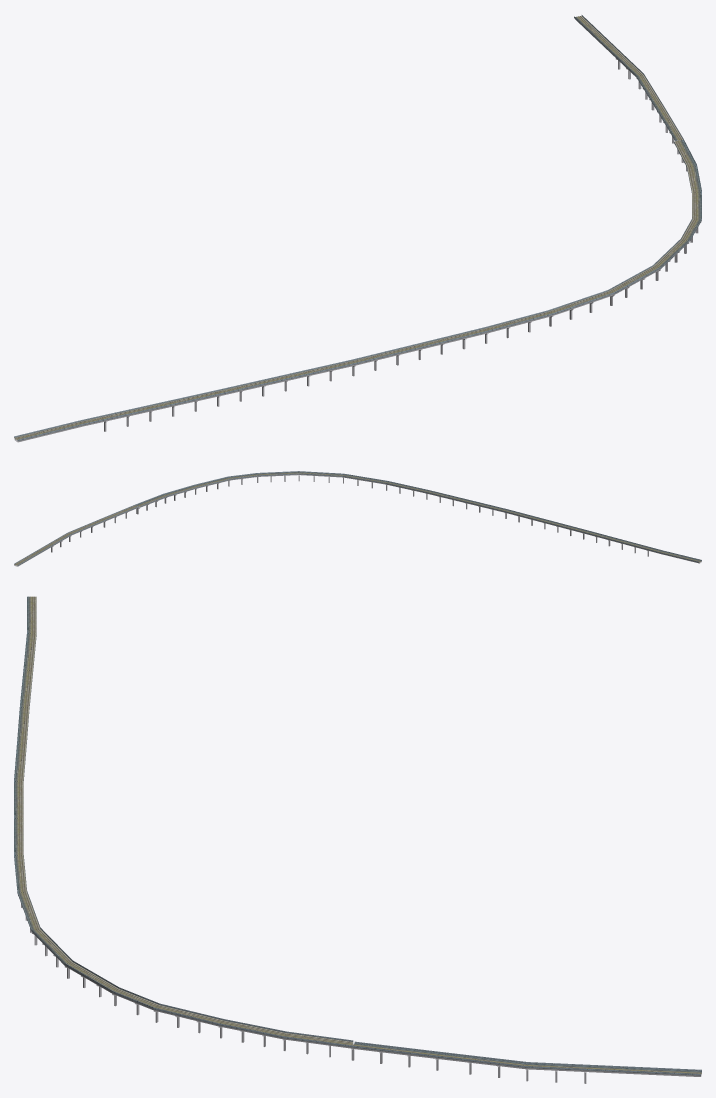
The picture shows the model from 3 angles, top to bottom: view 1: azimuth 30°, elevation 25°; view 2: azimuth 150°, elevation 25°; view 3: azimuth 270°, elevation 25°; orthographic projection. The views are drawn at different scales.
Visible parts, largest first — view 1: HN1259___Thuong_Dinh_Metro_Station___1; view 2: HN1259___Thuong_Dinh_Metro_Station___1; view 3: HN1259___Thuong_Dinh_Metro_Station___1.
Boxes of the visible parts, x1,y1,x2,y2 form: HN1259___Thuong_Dinh_Metro_Station___1: [14, 15, 701, 442]; HN1259___Thuong_Dinh_Metro_Station___1: [14, 471, 701, 566]; HN1259___Thuong_Dinh_Metro_Station___1: [14, 596, 701, 1083].
Bounding box in the file's own units: 934 × 15.17 × 567.
Materials: 1 (1 with a texture image).
